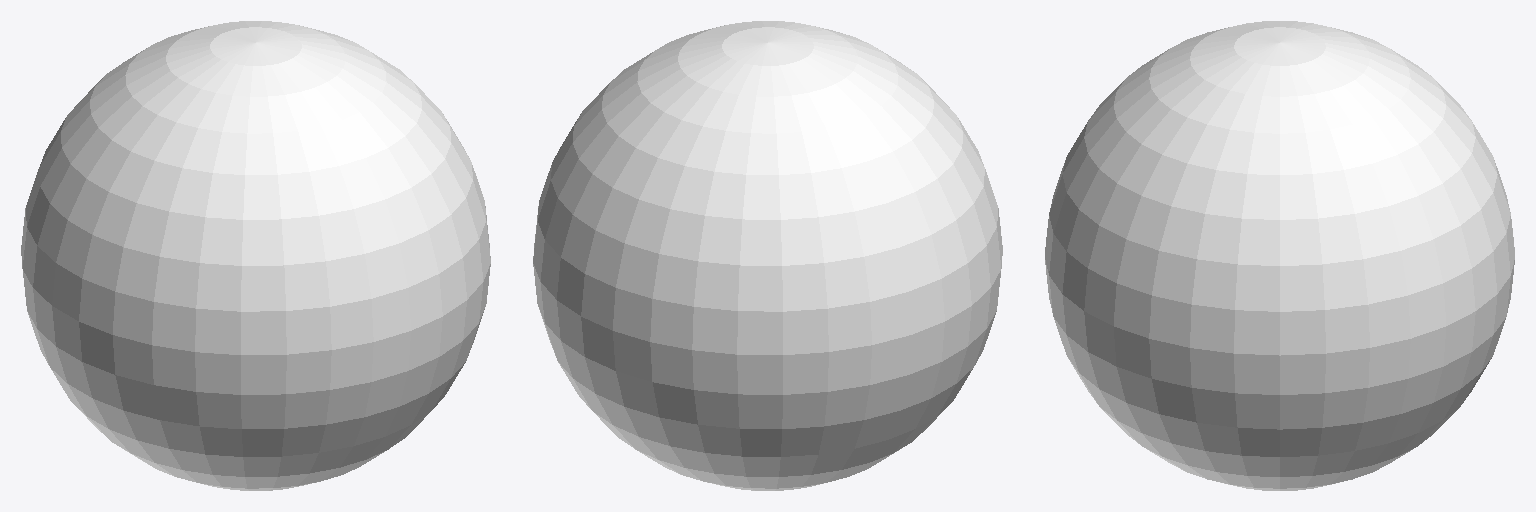
File: Background.obj
The picture shows the model from 3 angles: view 1: azimuth 30°, elevation 25°; view 2: azimuth 150°, elevation 25°; view 3: azimuth 270°, elevation 25°; orthographic projection.
Parts seen in each view (by area): view 1: Background; view 2: Background; view 3: Background.
Part boxes in pixels (x1,y1,x2,y2): Background: (21, 21, 490, 490); Background: (533, 21, 1002, 490); Background: (1045, 21, 1514, 490).
Size of the model in its own units: 2.05 by 2.05 by 2.05.